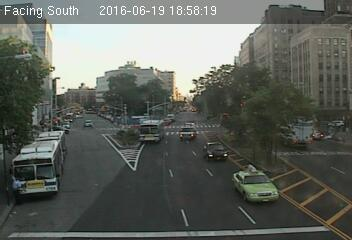neg: (15, 144, 45, 186), (209, 102, 237, 138), (131, 155, 158, 191), (27, 42, 54, 78), (135, 88, 161, 122), (66, 166, 92, 200), (177, 111, 202, 144), (285, 136, 307, 166), (255, 69, 277, 98), (69, 112, 91, 141), (259, 39, 281, 68), (234, 174, 253, 200), (69, 41, 88, 67), (183, 49, 202, 73), (201, 175, 217, 196), (133, 41, 148, 61)
